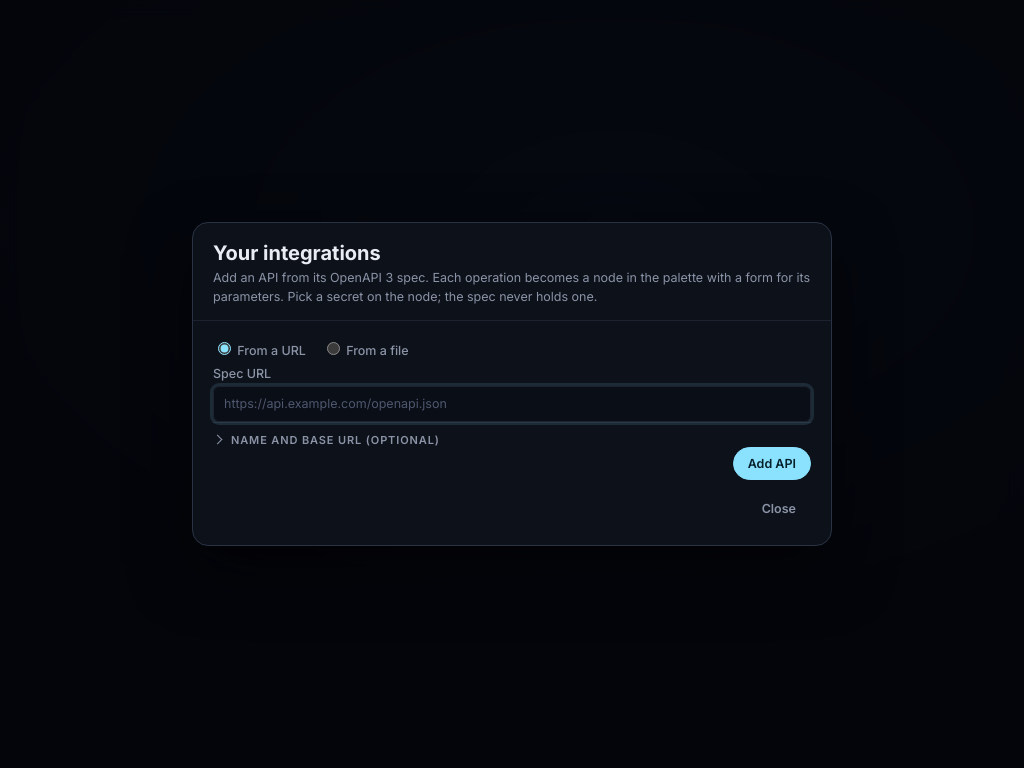
Test: ApiCatalogDialog › adds an API from a URL into the project and reloads the palette
Type "https://desk.example.com/openapi.json" into the field labelled "Spec URL".
click(512, 404); type("https://desk.example.com/openapi.json")  # box [213, 386, 811, 422]
Then press Enter
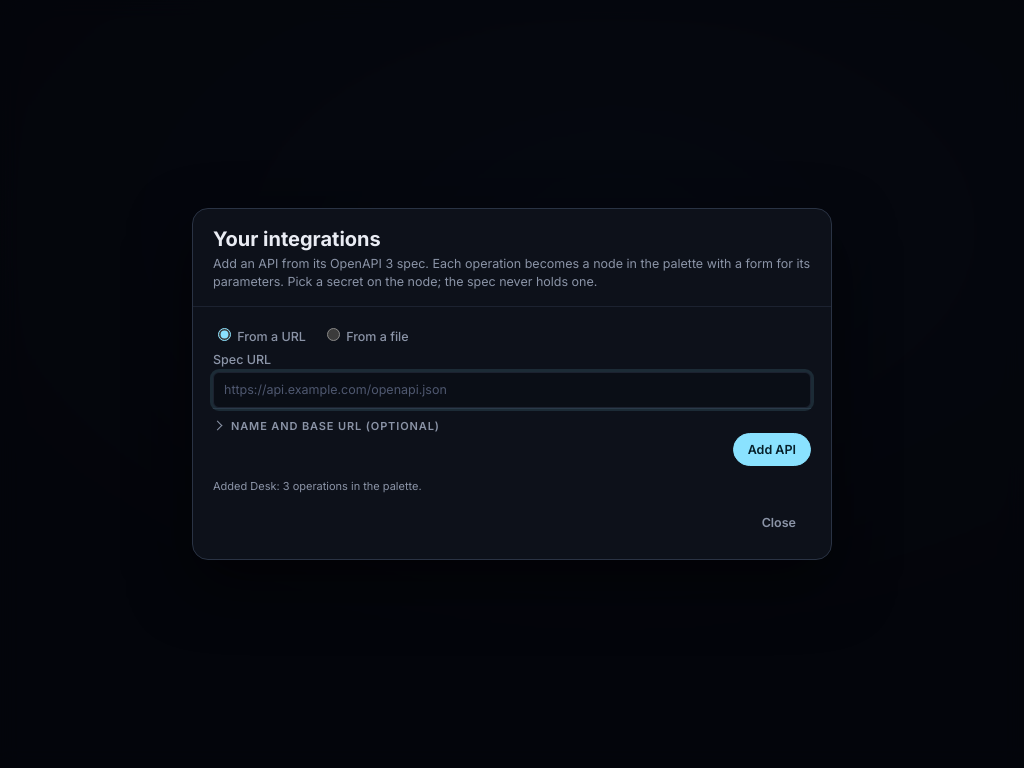
Check: the message reads "Added Desk: 3 operations in the palette.", box [213, 479, 422, 493]
